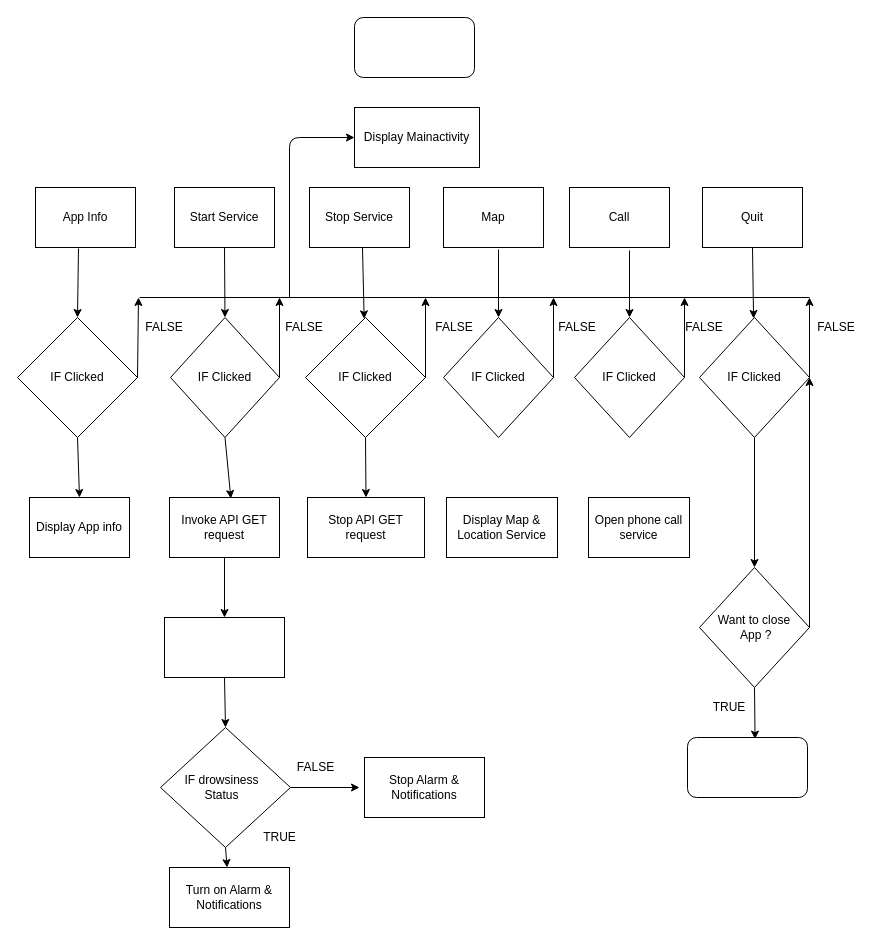
Some shapes in this 874 by 945 pixel diagram are drawn without their labels. The box of each missing label's shape, as (x1, y1, x2, y2) in pixels:
GET drowsiness status: (164, 616, 284, 678)
Quit App: (686, 736, 808, 798)
START: (354, 16, 474, 78)
